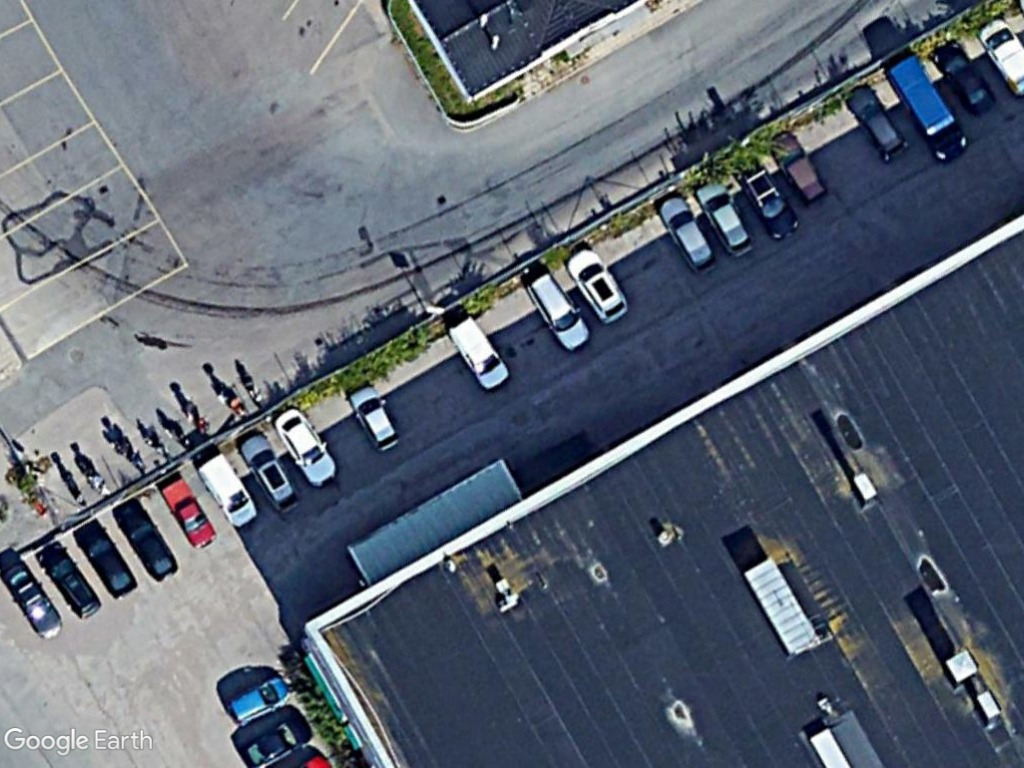car: (524, 269, 593, 352), (844, 81, 911, 166), (113, 495, 178, 582), (72, 519, 140, 602), (238, 425, 301, 513), (656, 193, 721, 276), (766, 127, 832, 208), (272, 402, 337, 484), (932, 37, 998, 116), (34, 539, 100, 618), (566, 246, 629, 325), (695, 179, 757, 254), (239, 710, 313, 768), (348, 380, 403, 455), (225, 672, 294, 726)
other: (2, 562, 66, 643), (159, 473, 219, 552)
van: (888, 51, 971, 165), (445, 314, 512, 392), (200, 448, 259, 530)
